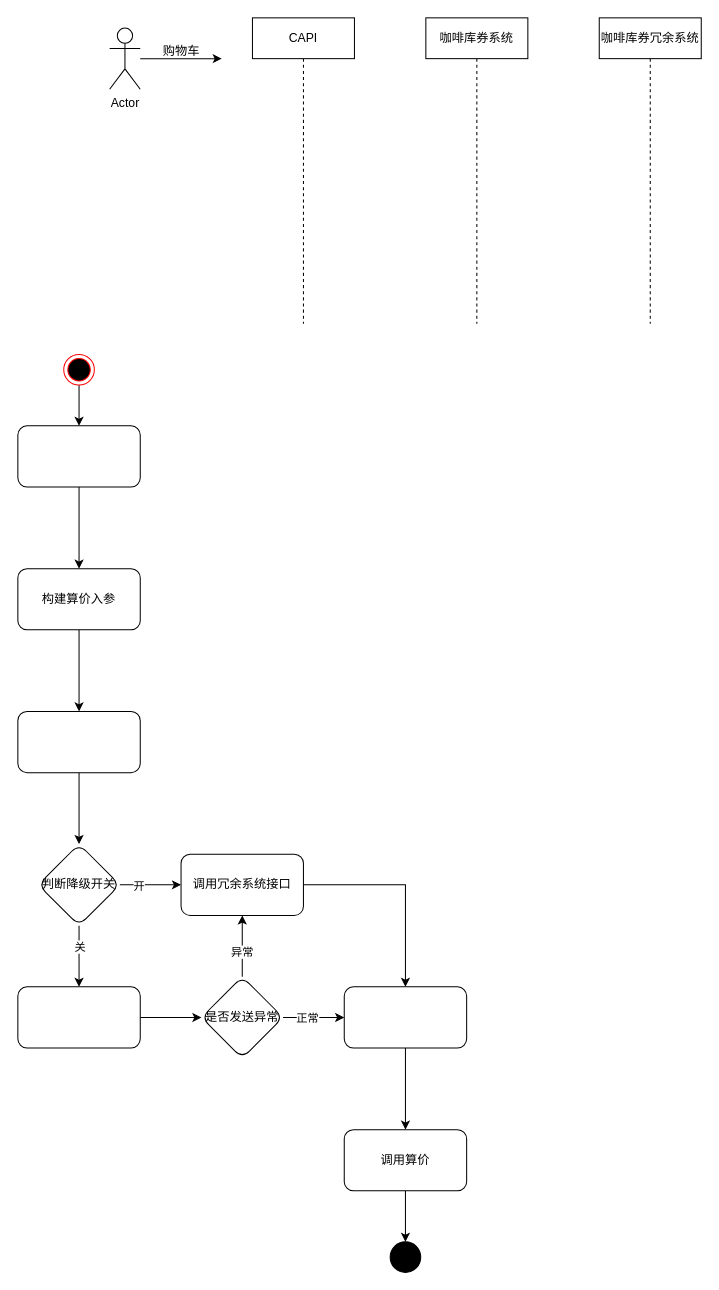
The diagram is 719 pixels wide and 1290 high, and some of its shapes have lost their labels. The centre of each missing label's shape, as x and y in pixels:
"封装咖啡库券信息" goes at (405,1017).
"获取咖啡库券信息" goes at (78,741).
"调用咖啡库券系统" goes at (78,1017).
"购物车/订单预览/订单创建/订单预创建" goes at (78,456).
